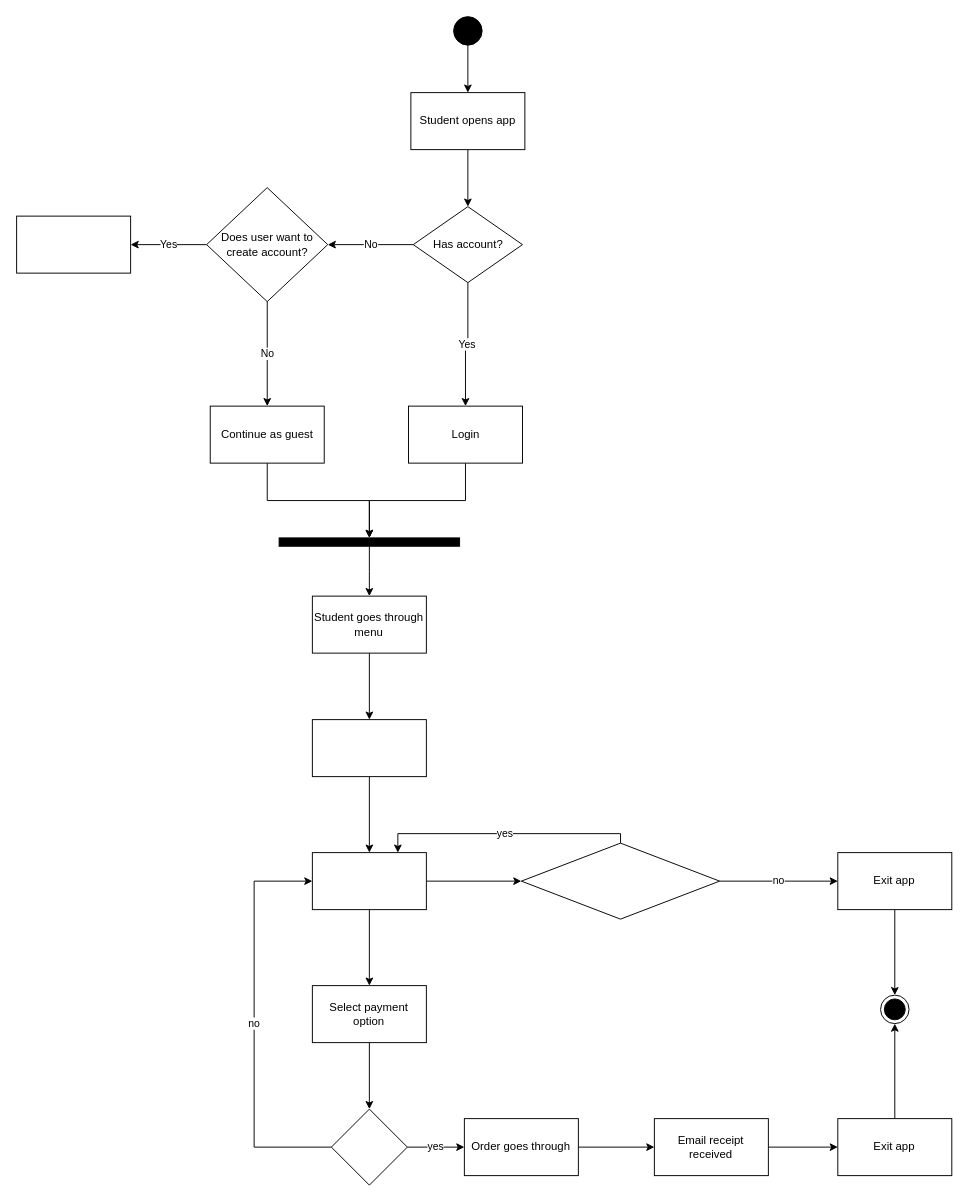
This 969x1202 diagram has some shape labels left out. Each missing label, with the box of its shape:
Does student still want to pay?: (520, 842, 720, 919)
Go to checkout: (311, 852, 426, 910)
Payment success?: (330, 1108, 407, 1185)
Select food to order: (311, 719, 426, 777)
Signup: (16, 215, 131, 273)
